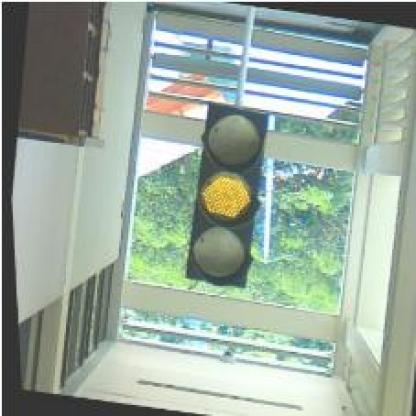yellow: (171, 98, 276, 291)
